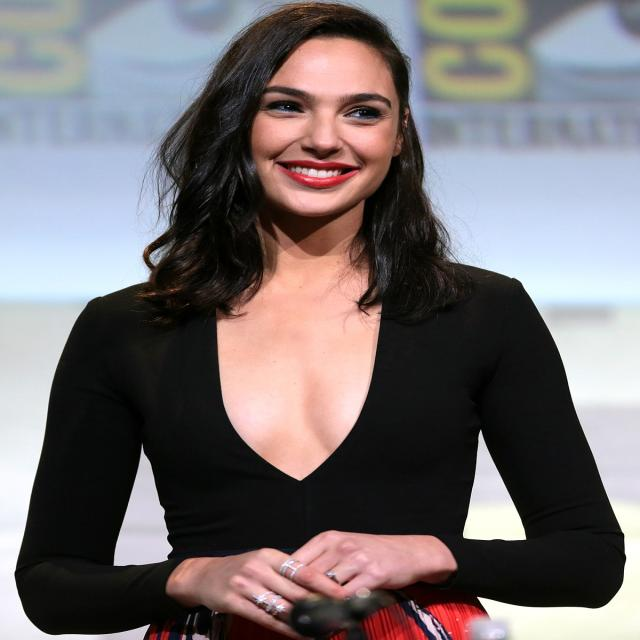human: (14, 1, 636, 640)
